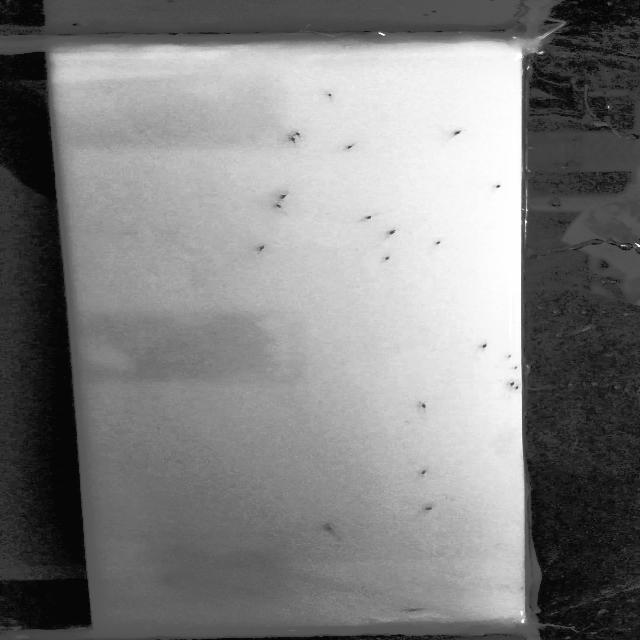shrimp: (471, 338, 493, 352), (245, 242, 278, 251), (323, 523, 342, 537), (400, 604, 425, 613), (499, 348, 520, 358), (412, 469, 436, 477), (158, 574, 175, 585), (360, 214, 375, 224), (321, 90, 337, 99), (380, 254, 400, 261), (449, 129, 463, 139), (505, 375, 516, 387), (283, 134, 299, 142), (486, 184, 507, 190), (339, 144, 363, 149), (276, 194, 290, 202), (274, 202, 285, 212), (416, 506, 442, 510), (514, 385, 528, 392), (293, 131, 306, 138), (384, 229, 396, 236), (417, 401, 433, 406), (510, 362, 520, 370), (435, 242, 445, 246)
